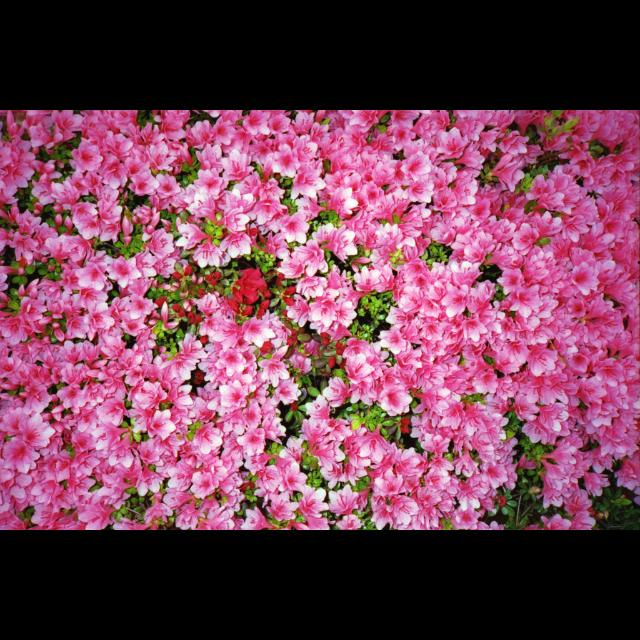Flower: (1, 110, 640, 530), (234, 265, 268, 305), (344, 359, 374, 379)
